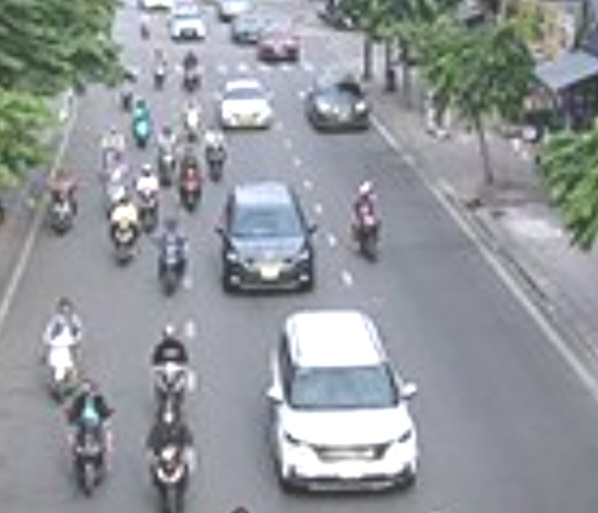car: (270, 309, 420, 491), (222, 180, 315, 294), (308, 71, 370, 135), (217, 77, 272, 130)
